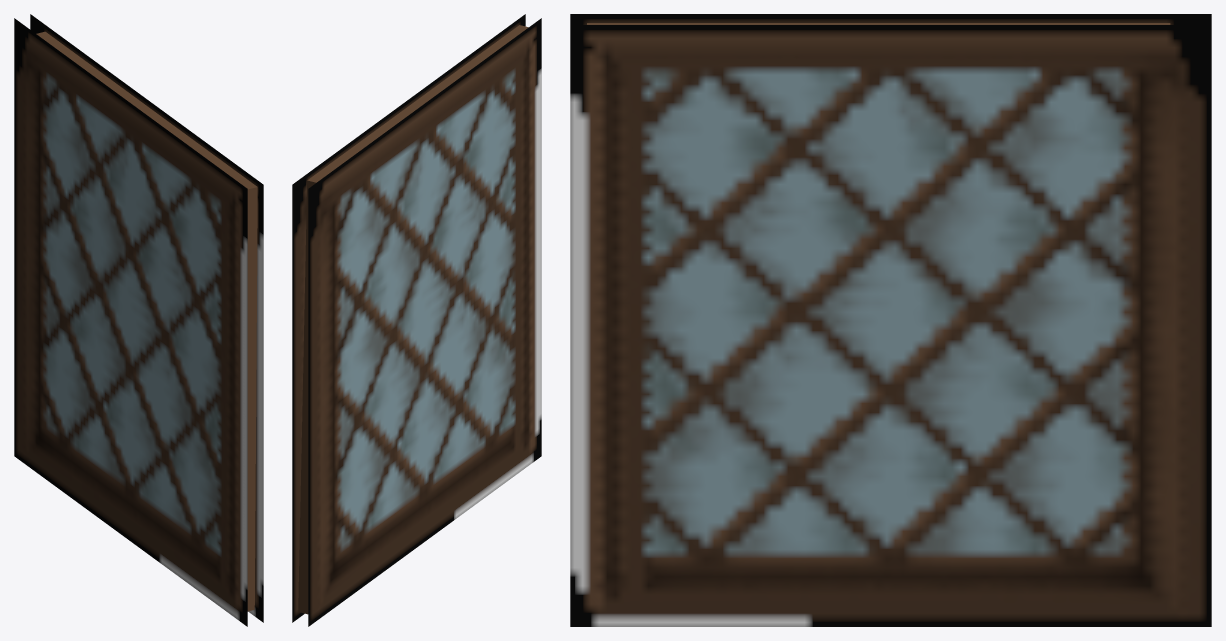
Rendered from pz_native_fixtures_windows_church_26_frame.obj.
3 views of the same model, side by side, from view 1: azimuth 30°, elevation 25°; view 2: azimuth 150°, elevation 25°; view 3: azimuth 270°, elevation 25° (orthographic). The views are drawn at different scales.
Parts seen in each view (by area): view 1: pz_native_fixtures_windows_church_26_frame; view 2: pz_native_fixtures_windows_church_26_frame; view 3: pz_native_fixtures_windows_church_26_frame.
Boxes of the visible parts, x1,y1,x2,y2 form: pz_native_fixtures_windows_church_26_frame: (14,14,263,626); pz_native_fixtures_windows_church_26_frame: (292,14,541,626); pz_native_fixtures_windows_church_26_frame: (570,14,1211,626).
Bounding box in the file's own units: 0.04 × 1.03 × 0.9951.
Materials: 1 (1 with a texture image).
